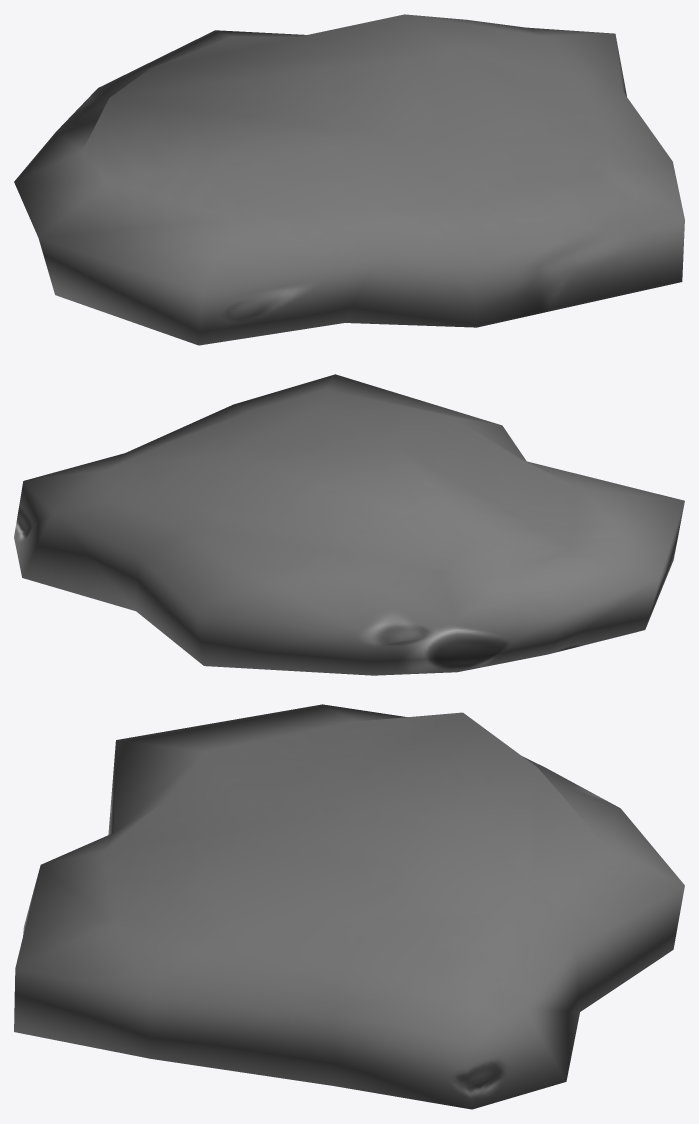
The model's file is stone-3.glb.
The picture shows the model from 3 angles, top to bottom: view 1: azimuth 30°, elevation 25°; view 2: azimuth 150°, elevation 25°; view 3: azimuth 270°, elevation 25°; orthographic projection. The views are drawn at different scales.
Parts seen in each view (by area): view 1: SM_PROP_stone_03; view 2: SM_PROP_stone_03; view 3: SM_PROP_stone_03.
Part boxes in pixels (x1,y1,x2,y2): SM_PROP_stone_03: [14, 14, 684, 345]; SM_PROP_stone_03: [14, 374, 684, 675]; SM_PROP_stone_03: [14, 704, 684, 1109].
Bounding box in the file's own units: 0.8362 × 0.1476 × 0.6979.
Materials: 1 (1 with a texture image).
